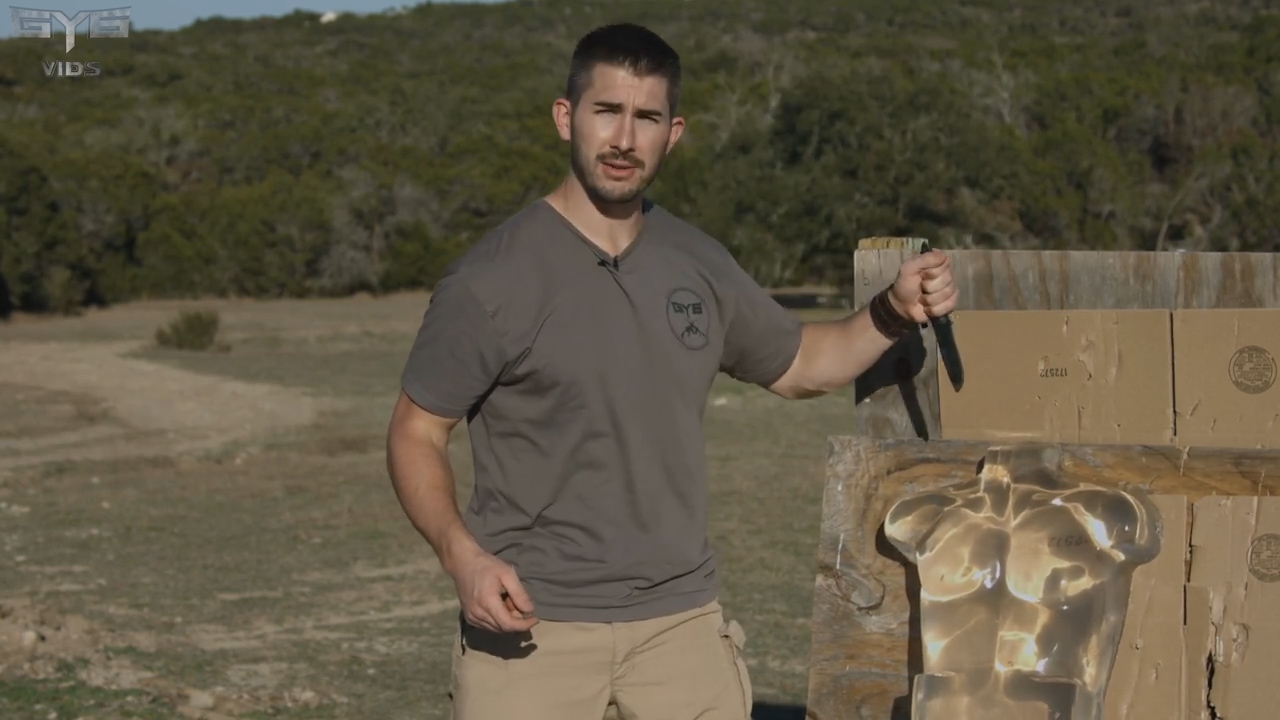knife: (908, 242, 977, 403)
